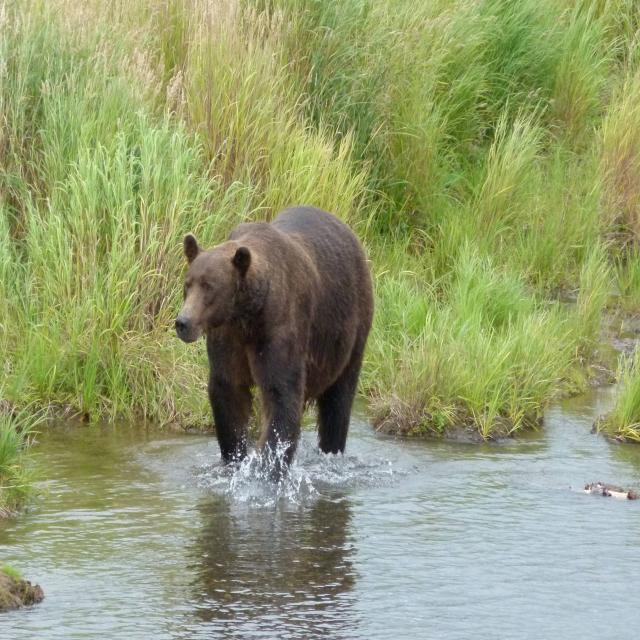bear face: (173, 207, 373, 470)
